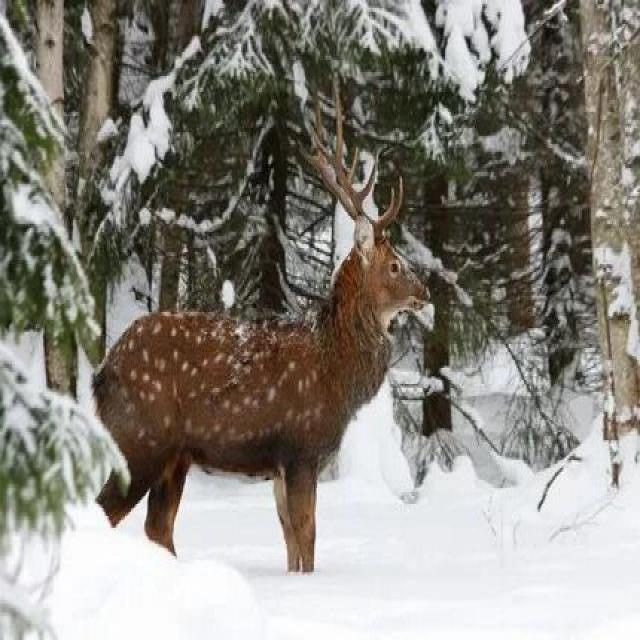deer: (113, 113, 483, 640)
